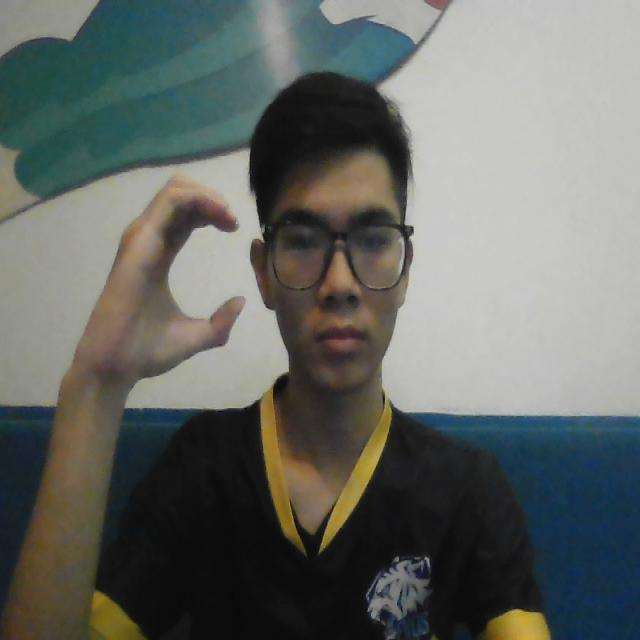C: (98, 168, 247, 383)
